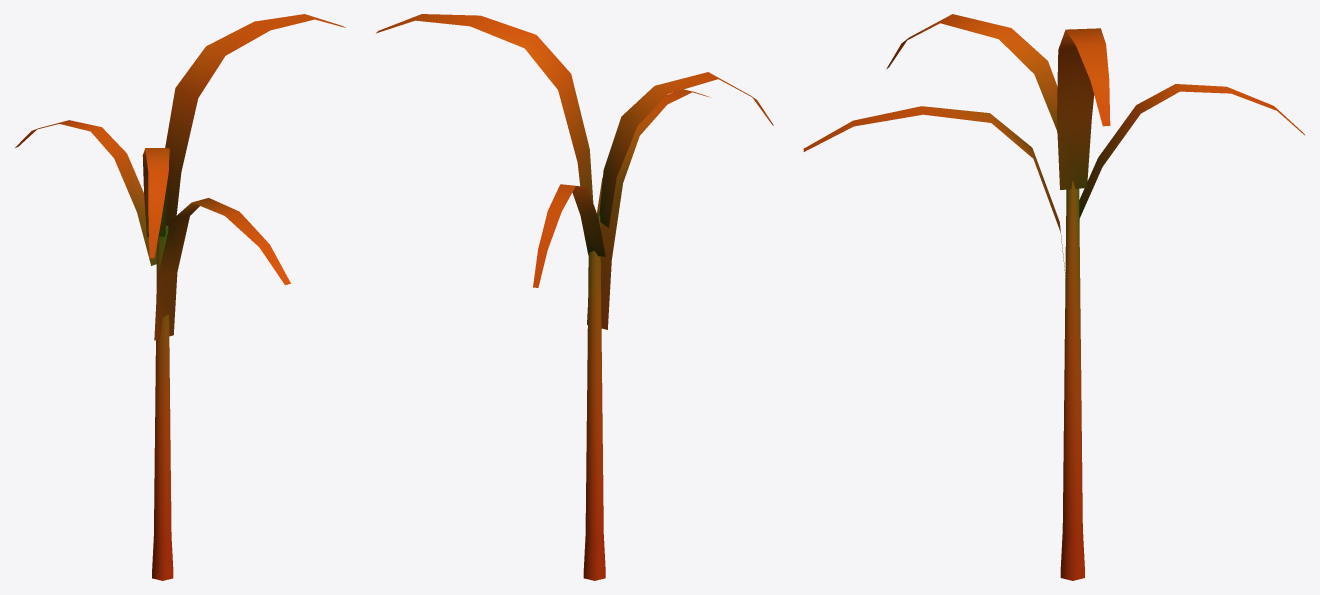
The model's file is SM_SugarCanePlants_7.fbx.
3 renders of one model, left to right at view 1: azimuth 30°, elevation 25°; view 2: azimuth 150°, elevation 25°; view 3: azimuth 270°, elevation 25°, orthographic. The views are drawn at different scales.
Visible parts, largest first — view 1: SM_SugarCanePlants_7; view 2: SM_SugarCanePlants_7; view 3: SM_SugarCanePlants_7.
Part boxes in pixels (bbox=[...]): SM_SugarCanePlants_7: bbox=[15, 14, 345, 580]; SM_SugarCanePlants_7: bbox=[376, 14, 773, 580]; SM_SugarCanePlants_7: bbox=[803, 14, 1304, 580].
Size of the model in its own units: 0.631 by 1.07 by 0.8273.
